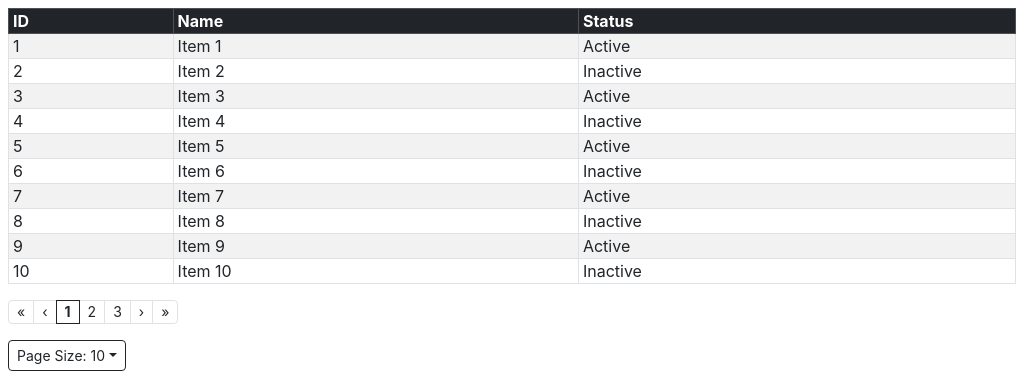
Test case: KopiaTable › Pagination › navigates to next page correctly
Click next page button - find by role button with Next text
Click the button named "next": (142, 312) [130, 300, 153, 324]
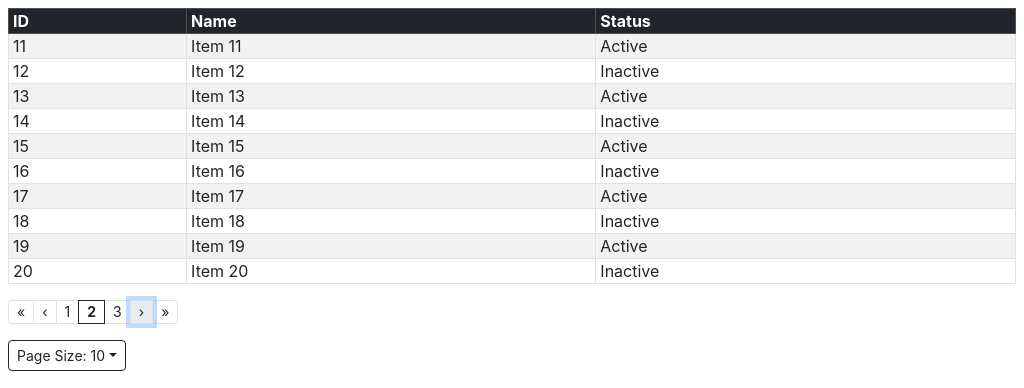
expect the text "Item 11" is shown: met, box [187, 34, 596, 58]
expect the text "Item 20" is shown: met, box [187, 258, 596, 284]
